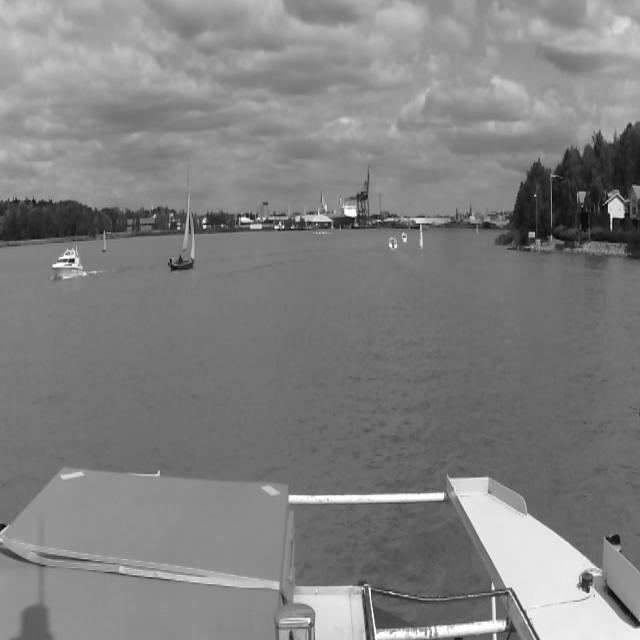buoy: (418, 225, 424, 248), (102, 228, 106, 252)
ship: (167, 152, 195, 273), (53, 246, 87, 281), (386, 236, 399, 252), (401, 230, 409, 246)
